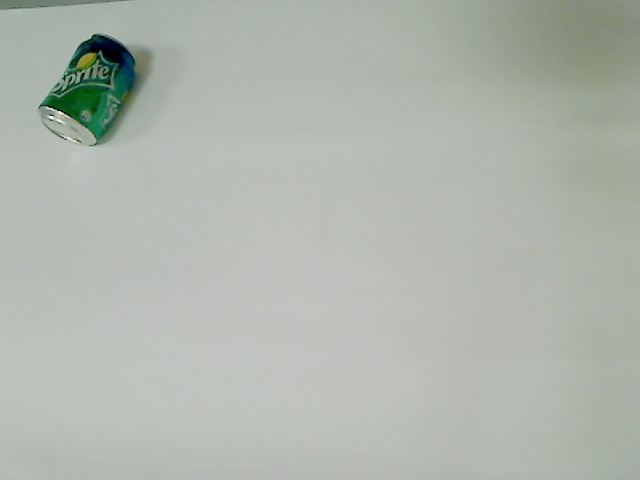can: (34, 31, 141, 148)
